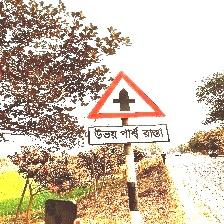Crossroad: (86, 72, 169, 145)
